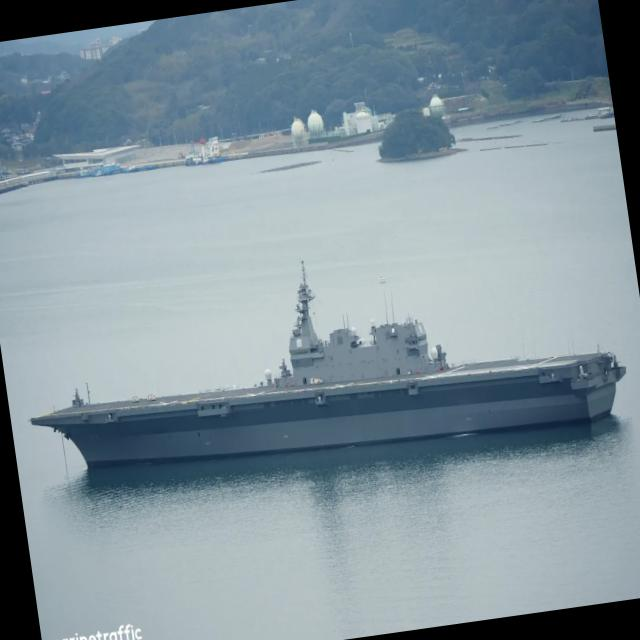Military: (31, 262, 626, 468)
